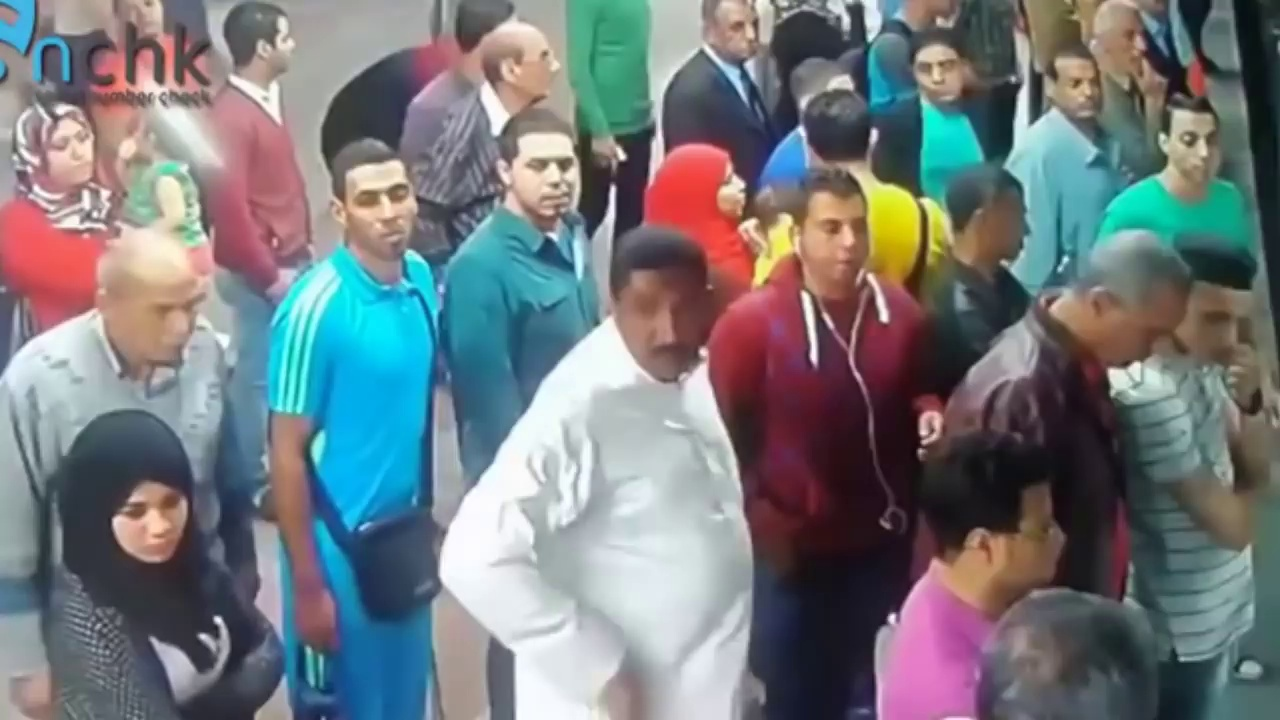face: (620, 274, 708, 370), (1001, 490, 1073, 590), (794, 192, 867, 280), (344, 165, 413, 251), (107, 486, 184, 563), (1190, 285, 1255, 364), (130, 287, 195, 362), (515, 140, 574, 213), (1169, 107, 1223, 178), (712, 4, 767, 58), (38, 130, 94, 180), (517, 31, 561, 94), (1060, 60, 1102, 121), (260, 23, 308, 71), (913, 48, 957, 98), (1108, 12, 1144, 67)
